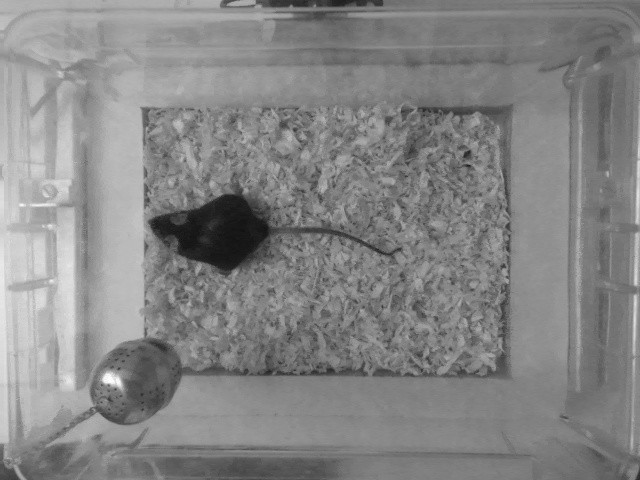mice: (145, 191, 402, 274)
